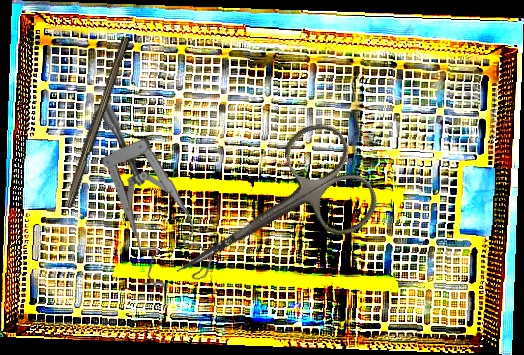Iris Scissors: (146, 113, 388, 320)
Scalpel Handle: (61, 34, 131, 210)
Speculum: (96, 99, 215, 290)
